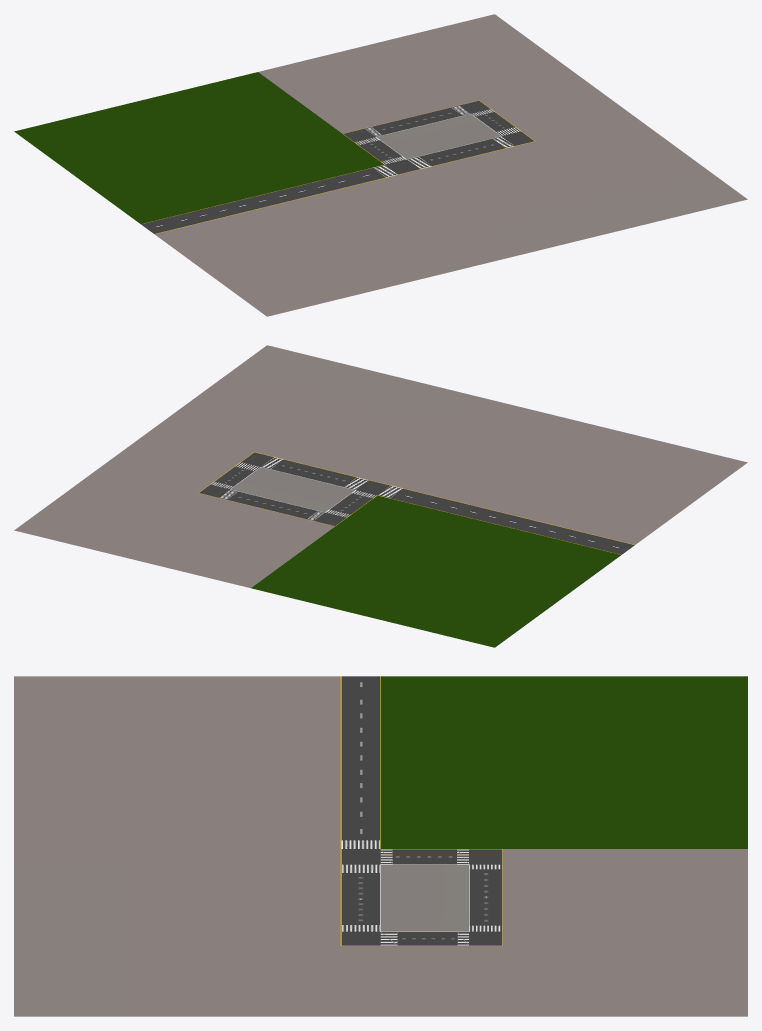
Rendered from ground.fbx.
3 renders of one model, top to bottom at view 1: azimuth 30°, elevation 25°; view 2: azimuth 150°, elevation 25°; view 3: azimuth 270°, elevation 25°, orthographic. The views are drawn at different scales.
Visible parts, largest first — view 1: road_ground; view 2: road_ground; view 3: road_ground.
Part boxes in pixels (x1,y1,x2,y2): road_ground: (14, 14, 747, 316); road_ground: (14, 345, 747, 647); road_ground: (14, 676, 747, 1016).
Bounding box in the file's own units: 2084 × 0.000628 × 1901.
